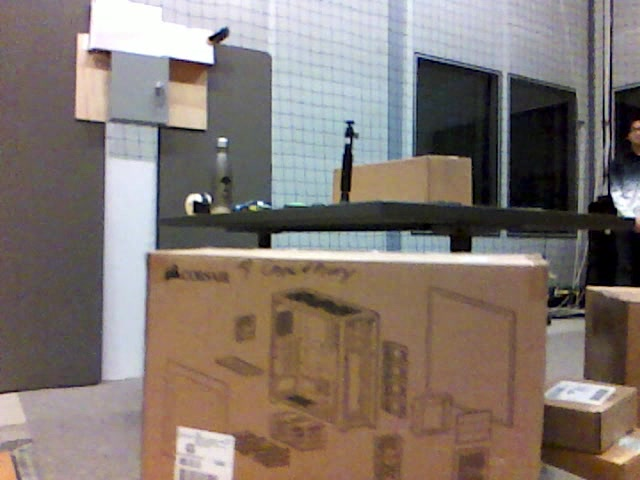box: (146, 250, 546, 480), (334, 155, 472, 204), (544, 380, 636, 451), (586, 283, 640, 381)
